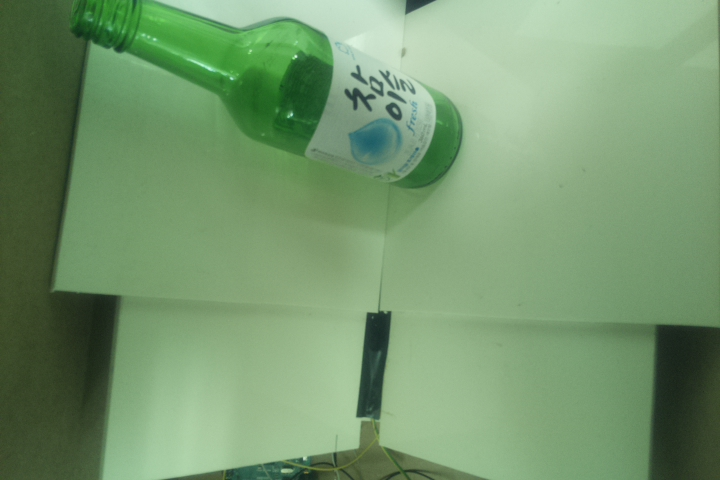soju: (63, 1, 467, 193)
